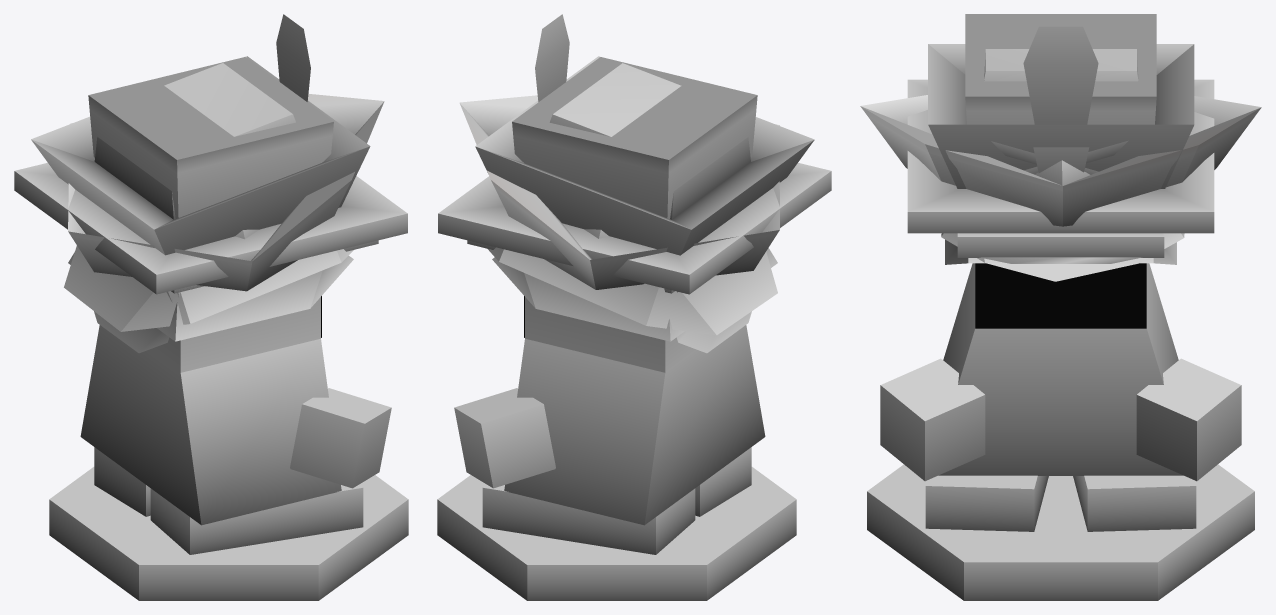
File: Troop.fbx
The picture shows the model from 3 angles, left to right: view 1: azimuth 30°, elevation 25°; view 2: azimuth 150°, elevation 25°; view 3: azimuth 270°, elevation 25°; orthographic projection. The views are drawn at different scales.
Parts seen in each view (by area): view 1: Base, Colonial Hat, Captains Hat, Farmers Hat, Admiral Hat, Pith Helmet, Hand R, Head, Stahlhelm, Picklehaube; view 2: Base, Colonial Hat, Captains Hat, Farmers Hat, Pith Helmet, Admiral Hat, Hand L, Head, Stahlhelm, Picklehaube; view 3: Base, Colonial Hat, Captains Hat, Admiral Hat, Farmers Hat, Face, Hand L, Hand R, Pith Helmet, Union Cap, Stahlhelm.
Part boxes in pixels (box(x1,y1,x2,y2)): Base: box(49, 325, 408, 600); Colonial Hat: box(88, 14, 378, 293); Captains Hat: box(31, 56, 370, 255); Farmers Hat: box(14, 162, 407, 294); Admiral Hat: box(68, 93, 384, 291); Pith Helmet: box(64, 246, 353, 331); Hand R: box(290, 388, 391, 488); Head: box(149, 297, 320, 372); Stahlhelm: box(68, 252, 353, 341); Picklehaube: box(94, 311, 169, 353); Base: box(437, 325, 796, 600); Colonial Hat: box(467, 14, 757, 293); Captains Hat: box(475, 56, 814, 255); Farmers Hat: box(438, 162, 831, 294); Pith Helmet: box(488, 247, 777, 335); Admiral Hat: box(459, 95, 779, 289); Hand L: box(454, 388, 555, 488); Head: box(525, 297, 696, 372); Stahlhelm: box(492, 248, 777, 341); Picklehaube: box(676, 311, 751, 353); Base: box(867, 263, 1254, 600); Colonial Hat: box(957, 14, 1164, 257); Captains Hat: box(928, 44, 1194, 188); Admiral Hat: box(860, 95, 1261, 226); Farmers Hat: box(907, 79, 1214, 233); Face: box(975, 263, 1146, 328); Hand L: box(1136, 358, 1241, 481); Hand R: box(880, 358, 985, 481); Pith Helmet: box(941, 233, 1184, 281); Union Cap: box(979, 257, 1142, 263); Stahlhelm: box(945, 239, 1176, 264).
Size of the model in its own units: 297 by 444 by 301.
